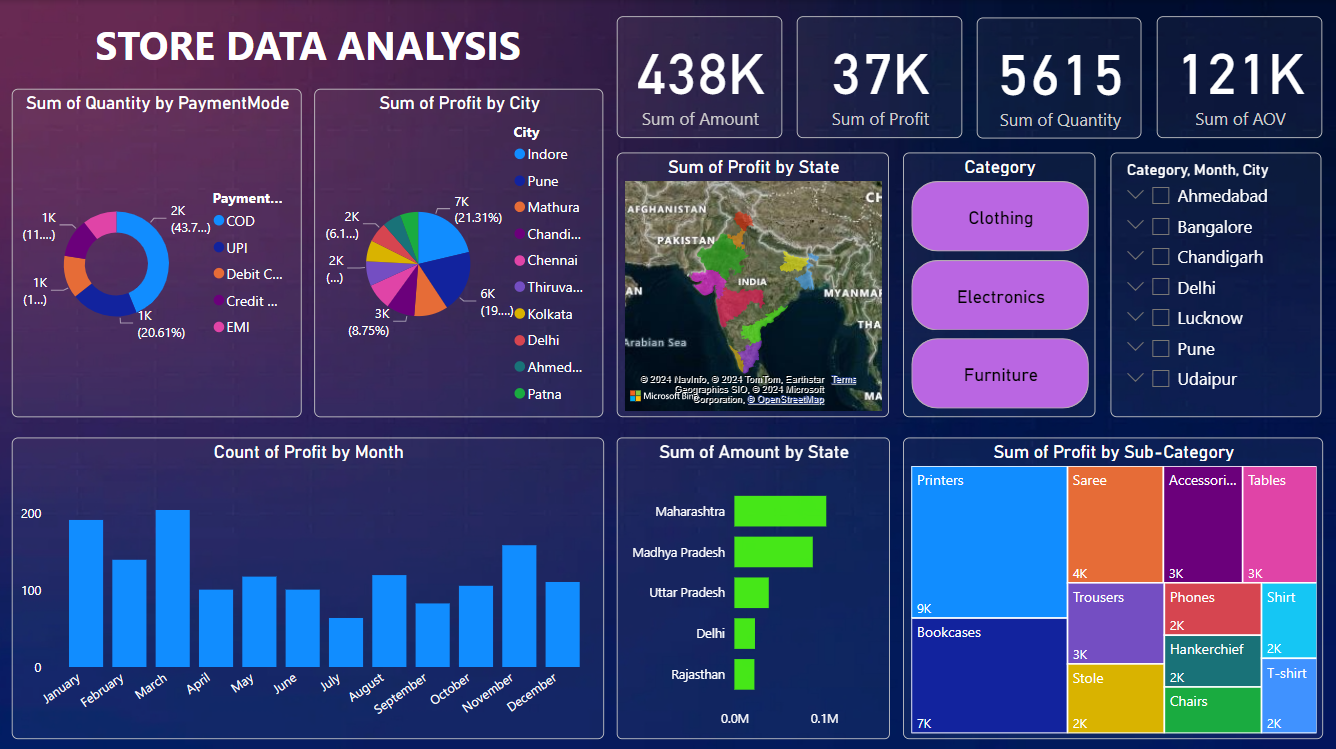

The dashboard page shown, as its layout file describes it:
{"tool":"powerbi","page":{"name":"Page 1","canvas":[1280,720],"ordinal":0},"visuals":[{"type":"filledMap","fields":{"Category":["ORDERS.State"]},"box":[589.1,145.2,259.4,252.3],"z":0},{"type":"pieChart","fields":{"Y":["Sum(DETAILS.Profit)"],"Category":["ORDERS.City"]},"box":[301.2,85,275,312.5],"z":1000},{"type":"columnChart","fields":{"Y":["CountNonNull(DETAILS.Profit)"],"Category":["ORDERS.Order Date.Variation.Date Hierarchy.Month"]},"box":[12.5,416.2,563.8,287.5],"z":2000},{"type":"barChart","fields":{"Category":["ORDERS.State"],"Y":["Sum(DETAILS.Amount)"]},"box":[589,416,260,287],"z":3000},{"type":"textbox","box":[13.1,11.9,564.1,72.6],"z":4000},{"type":"donutChart","fields":{"Y":["Sum(DETAILS.Quantity)"],"Category":["DETAILS.PaymentMode"]},"box":[12.5,85,276.2,312.5],"z":5000},{"type":"card","fields":{"Values":["Sum(DETAILS.Quantity)"]},"box":[931.8,16.7,157.1,115.4],"z":6000},{"type":"card","fields":{"Values":["Sum(DETAILS.Profit)"]},"box":[760,15,157.5,116.2],"z":7000},{"type":"card","fields":{"Values":["Sum(DETAILS.Amount)"]},"box":[588.8,15,157.5,116.2],"z":8000},{"type":"card","fields":{"Values":["Sum(DETAILS.AOV)"]},"box":[1103.8,15,157.5,116.2],"z":9000},{"type":"treemap","fields":{"Values":["Sum(DETAILS.Profit)"],"Group":["DETAILS.Sub-Category"]},"box":[861.2,416.2,400,287.5],"z":10000},{"type":"advancedSlicerVisual","fields":{"Values":["DETAILS.Category"]},"box":[861.6,145.2,183.3,252.3],"z":12000},{"type":"slicer","fields":{"Values":["DETAILS.Category","ORDERS.Order Date.Variation.Date Hierarchy.Month","ORDERS.City"]},"box":[1059.2,145.2,201.1,252.3],"z":13000}]}

Visuals, with their boxes in screenshot pixels (x1, y1, x2, y2), scaled from the page's 1280x720 canvas onto the 1336x749 screenshot:
filledMap - ORDERS.State: (615,151,886,414)
pieChart - Sum(DETAILS.Profit) x ORDERS.City: (314,88,601,414)
columnChart - CountNonNull(DETAILS.Profit) x ORDERS.Order Date.Variation.Date Hierarchy.Month: (13,433,602,732)
barChart - ORDERS.State x Sum(DETAILS.Amount): (615,433,886,731)
textbox: (14,12,602,88)
donutChart - Sum(DETAILS.Quantity) x DETAILS.PaymentMode: (13,88,301,414)
card - Sum(DETAILS.Quantity): (973,17,1137,137)
card - Sum(DETAILS.Profit): (793,16,958,136)
card - Sum(DETAILS.Amount): (615,16,779,136)
card - Sum(DETAILS.AOV): (1152,16,1316,136)
treemap - Sum(DETAILS.Profit) x DETAILS.Sub-Category: (899,433,1316,732)
advancedSlicerVisual - DETAILS.Category: (899,151,1091,414)
slicer - DETAILS.Category x ORDERS.Order Date.Variation.Date Hierarchy.Month: (1106,151,1315,414)
